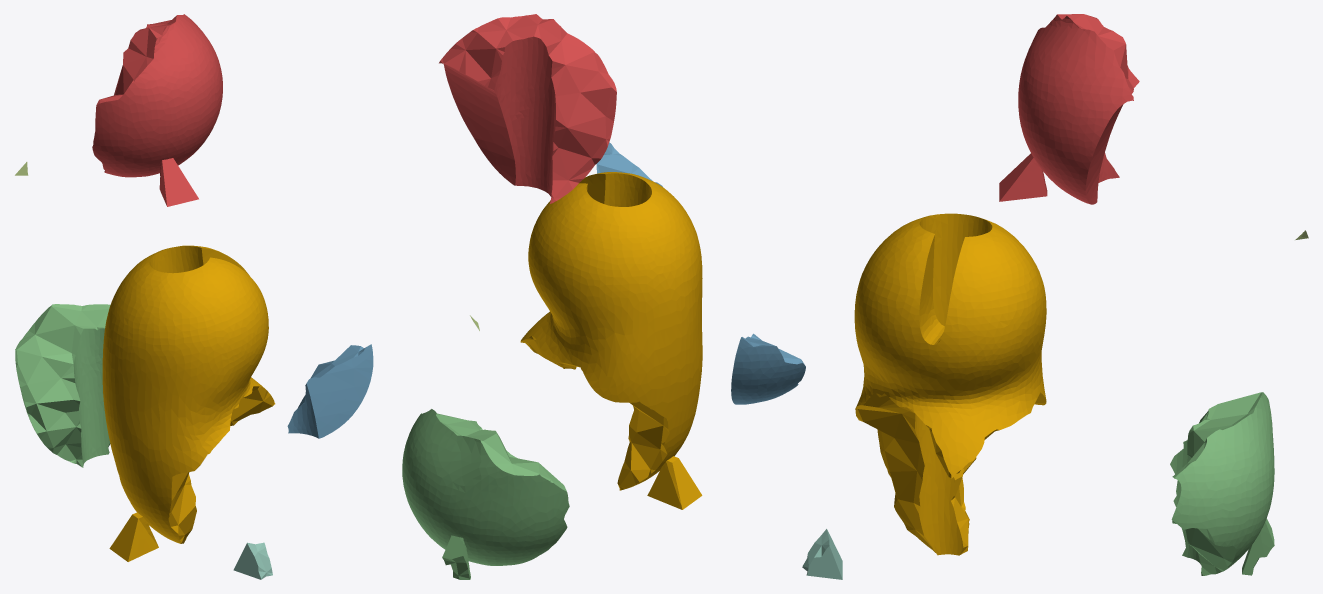
Rendered from mode_9_6pcs_transformed.glb.
3 views of the same model, side by side, from view 1: azimuth 30°, elevation 25°; view 2: azimuth 150°, elevation 25°; view 3: azimuth 270°, elevation 25° (orthographic). The views are drawn at different scales.
Parts seen in each view (by area): view 1: piece_0.obj, piece_1.obj, piece_3.obj, piece_2.obj, piece_4.obj; view 2: piece_0.obj, piece_1.obj, piece_3.obj, piece_2.obj; view 3: piece_0.obj, piece_1.obj, piece_3.obj, piece_2.obj, piece_4.obj.
Part boxes in pixels (x1,y1,x2,y2): piece_0.obj: [102, 245, 275, 561]; piece_1.obj: [92, 14, 222, 206]; piece_3.obj: [15, 304, 110, 467]; piece_2.obj: [287, 344, 373, 438]; piece_4.obj: [233, 542, 272, 579]; piece_0.obj: [520, 172, 702, 509]; piece_1.obj: [439, 14, 616, 203]; piece_3.obj: [402, 409, 569, 579]; piece_2.obj: [596, 142, 662, 186]; piece_0.obj: [854, 213, 1046, 555]; piece_1.obj: [999, 14, 1139, 204]; piece_3.obj: [1170, 392, 1274, 575]; piece_2.obj: [731, 333, 805, 404]; piece_4.obj: [802, 529, 842, 579].
Bounding box in the file's own units: 0.6302 × 1.67 × 1.56.
